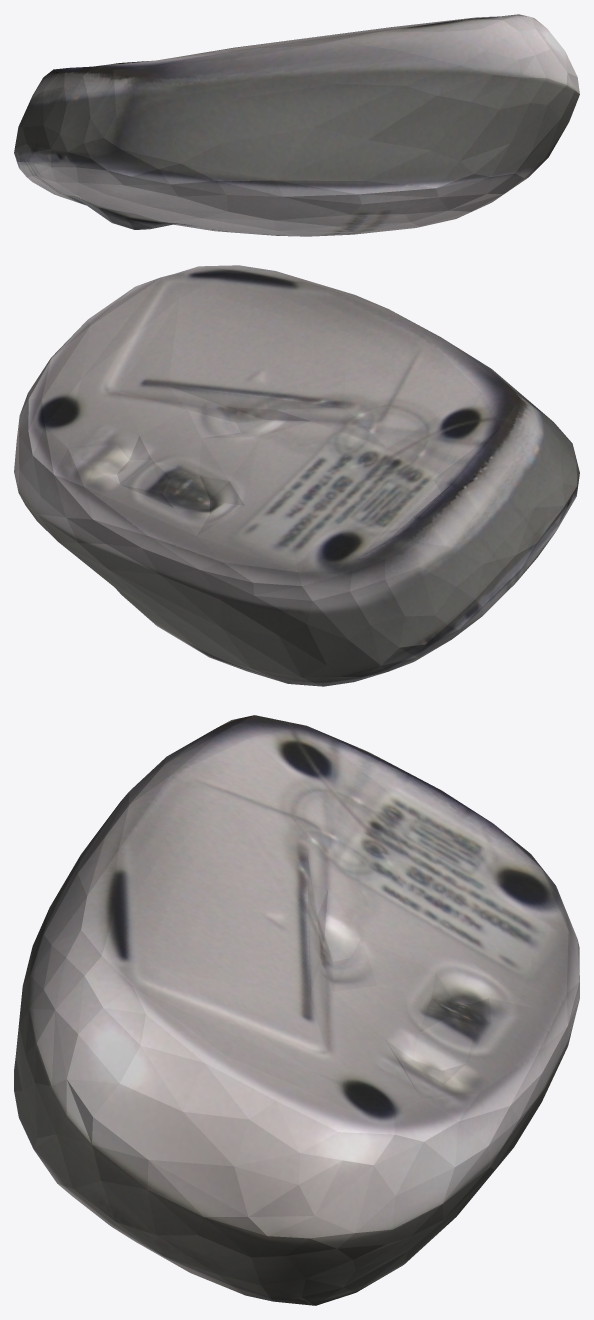
The model's file is export-small.obj.
3 renders of one model, top to bottom at view 1: azimuth 30°, elevation 25°; view 2: azimuth 150°, elevation 25°; view 3: azimuth 270°, elevation 25°, orthographic. The views are drawn at different scales.
Size of the model in its own units: 91.54 by 45.1 by 60.74.
1 material, 1 textured.
